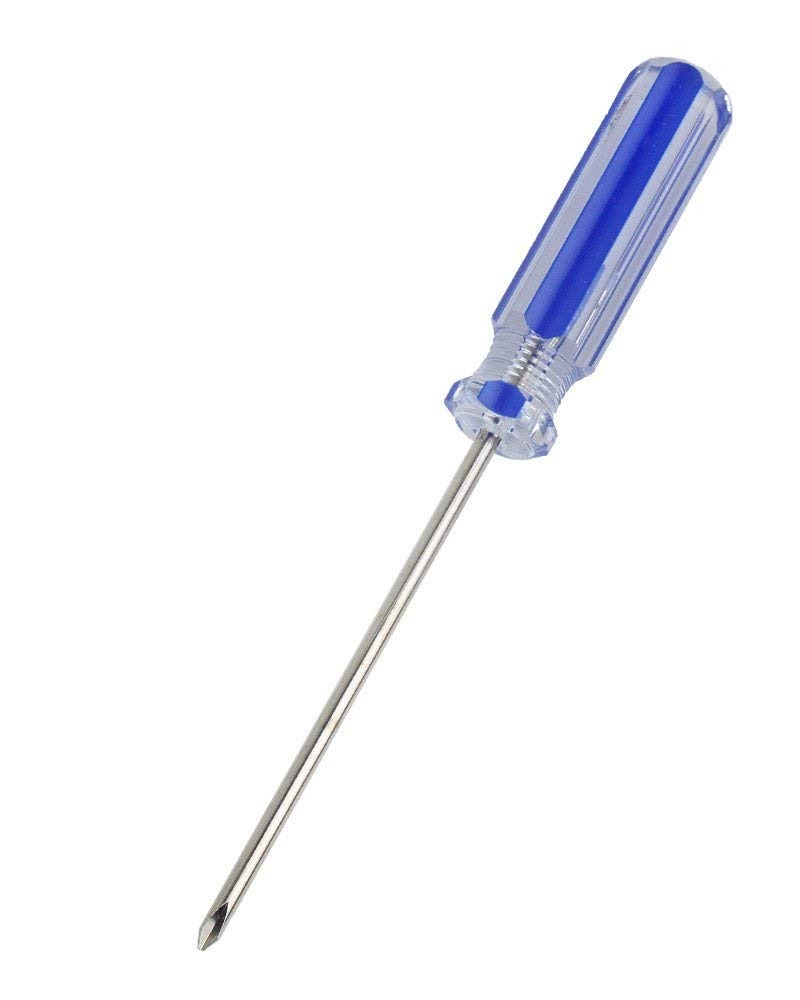screwdriver: (189, 45, 732, 956)
